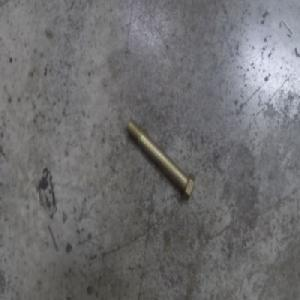Bolt: (127, 116, 196, 201)
